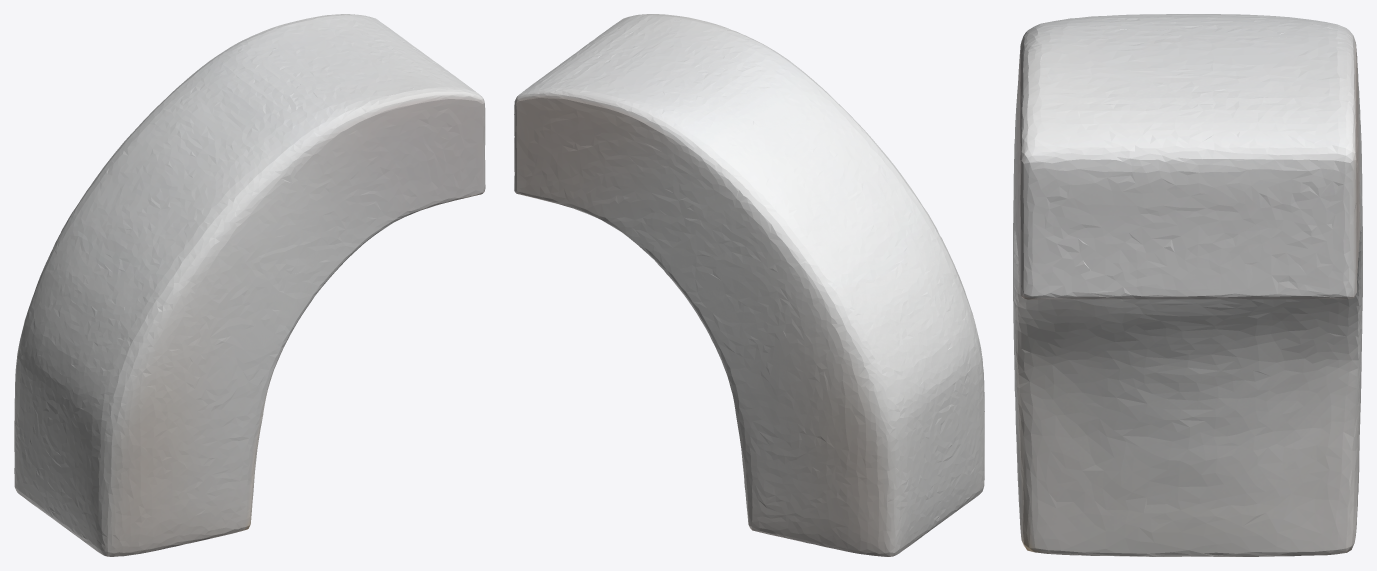
3 views of the same model, side by side, from view 1: azimuth 30°, elevation 25°; view 2: azimuth 150°, elevation 25°; view 3: azimuth 270°, elevation 25° (orthographic). The views are drawn at different scales.
Visible parts, largest first — view 1: world; view 2: world; view 3: world.
Part boxes in pixels (x1=…): world: x1=14, y1=14, x2=485, y2=556; world: x1=514, y1=14, x2=984, y2=556; world: x1=1013, y1=14, x2=1362, y2=556.
Size of the model in its own units: 0.9977 by 0.9974 by 0.5223.
1 material, 1 textured.
